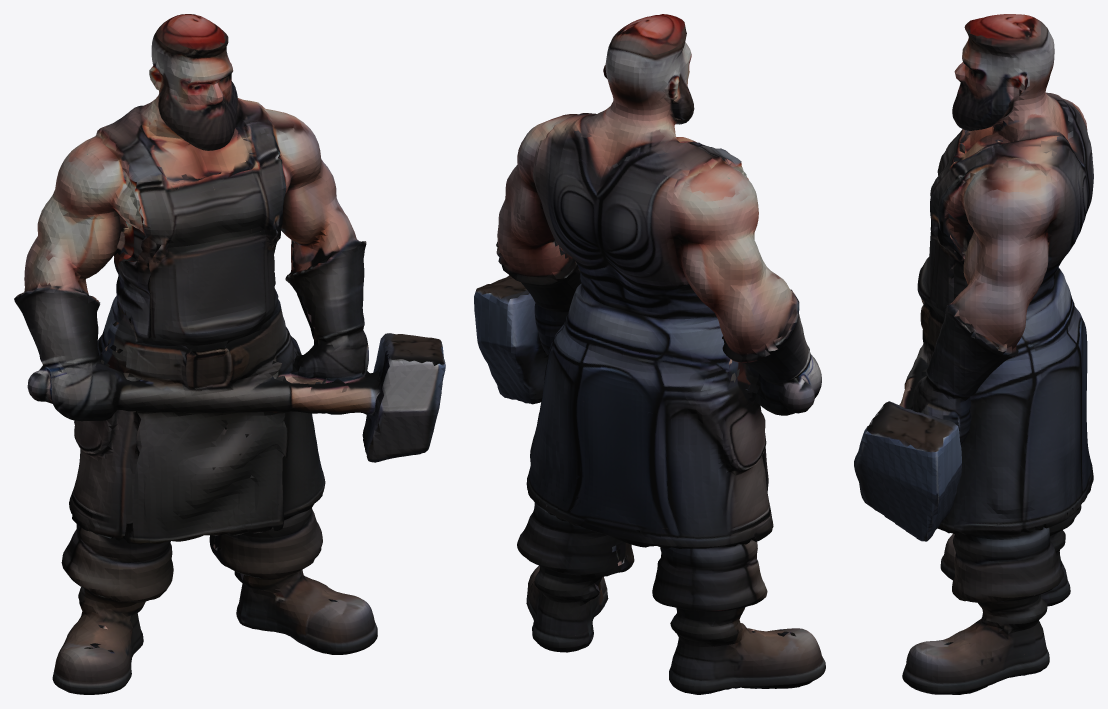
The model's file is body.glb.
3 views of the same model, side by side, from view 1: azimuth 30°, elevation 25°; view 2: azimuth 150°, elevation 25°; view 3: azimuth 270°, elevation 25° (orthographic). The views are drawn at different scales.
Visible parts, largest first — view 1: geometry_0; view 2: geometry_0; view 3: geometry_0.
Boxes of the visible parts, x1=… form: geometry_0: x1=14, y1=14, x2=445, y2=694; geometry_0: x1=474, y1=14, x2=825, y2=694; geometry_0: x1=854, y1=14, x2=1093, y2=694.
Bounding box in the file's own units: 1.22 × 1.96 × 0.6933.
Materials: 1 (1 with a texture image).
